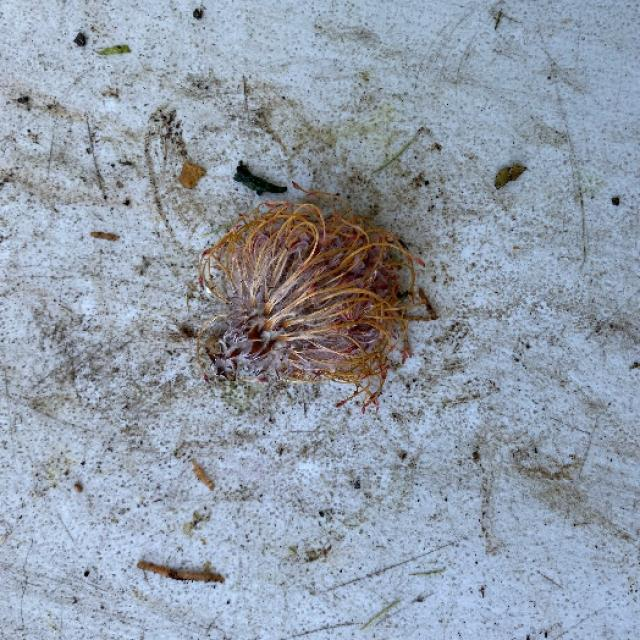organik: (202, 195, 406, 397)
